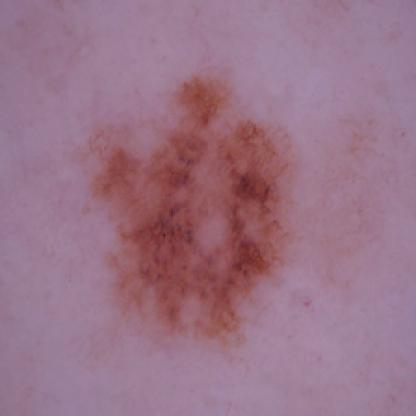benign: (95, 76, 302, 338)
